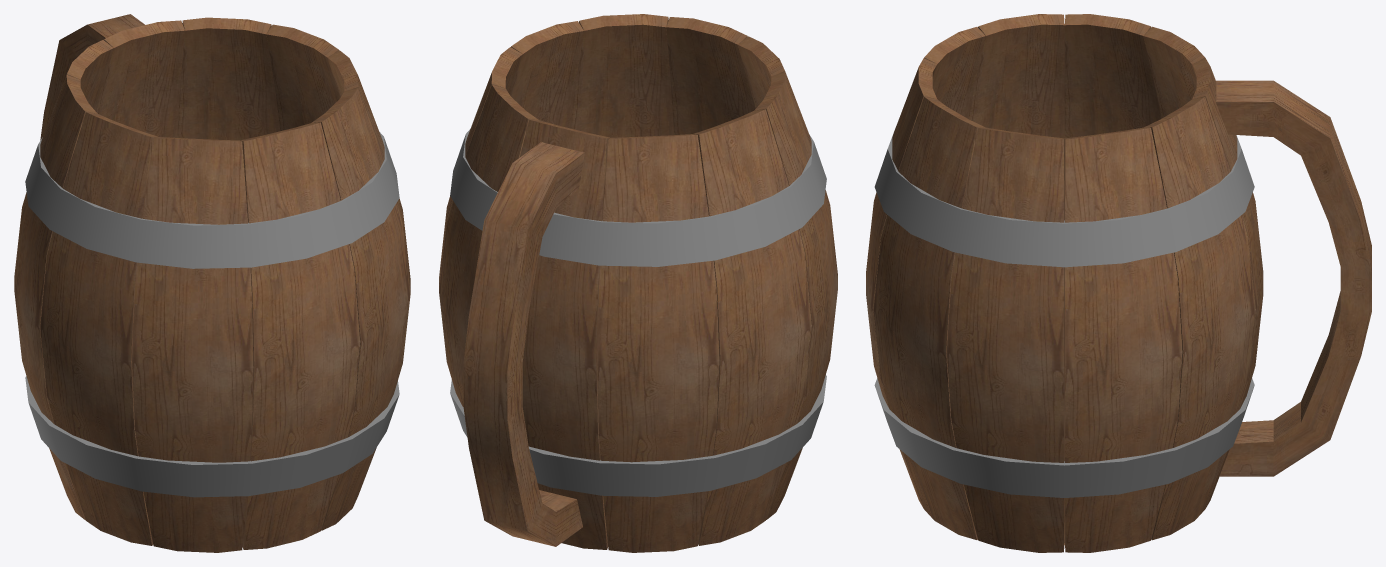
Rendered from barrelcupVirginia 1.fbx.
3 renders of one model, left to right at view 1: azimuth 30°, elevation 25°; view 2: azimuth 150°, elevation 25°; view 3: azimuth 270°, elevation 25°, orthographic.
Parts seen in each view (by area): view 1: Mug; view 2: Mug; view 3: Mug.
Boxes of the visible parts, x1,y1,x2,y2 form: Mug: (14,14,410,552); Mug: (439,14,837,552); Mug: (866,14,1371,552).
Bounding box in the file's own units: 4.73 × 5.4 × 5.94.
1 material, 1 textured.
